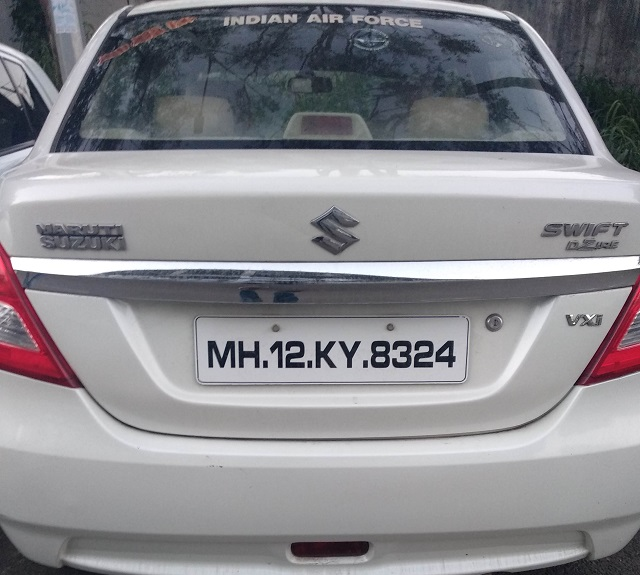licenseplate: (193, 311, 470, 385)
